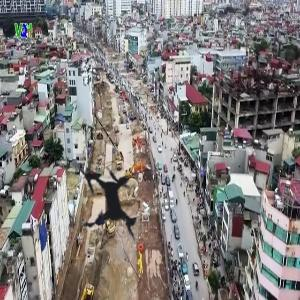drone: (34, 126, 183, 275)
